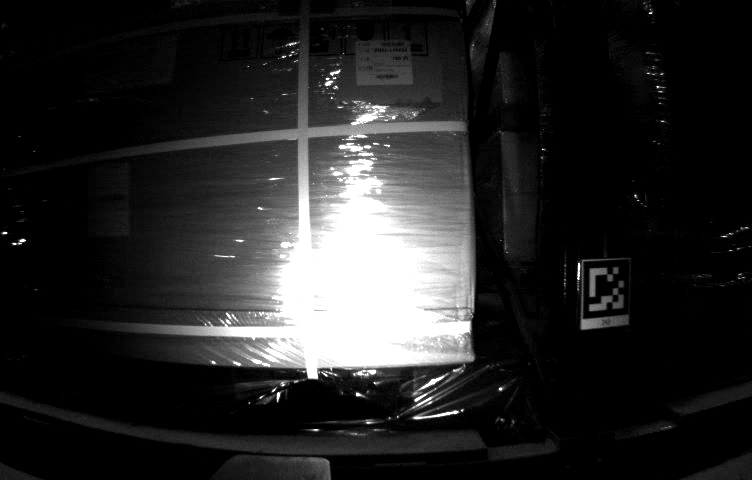True Barcode: (354, 40, 415, 86)
